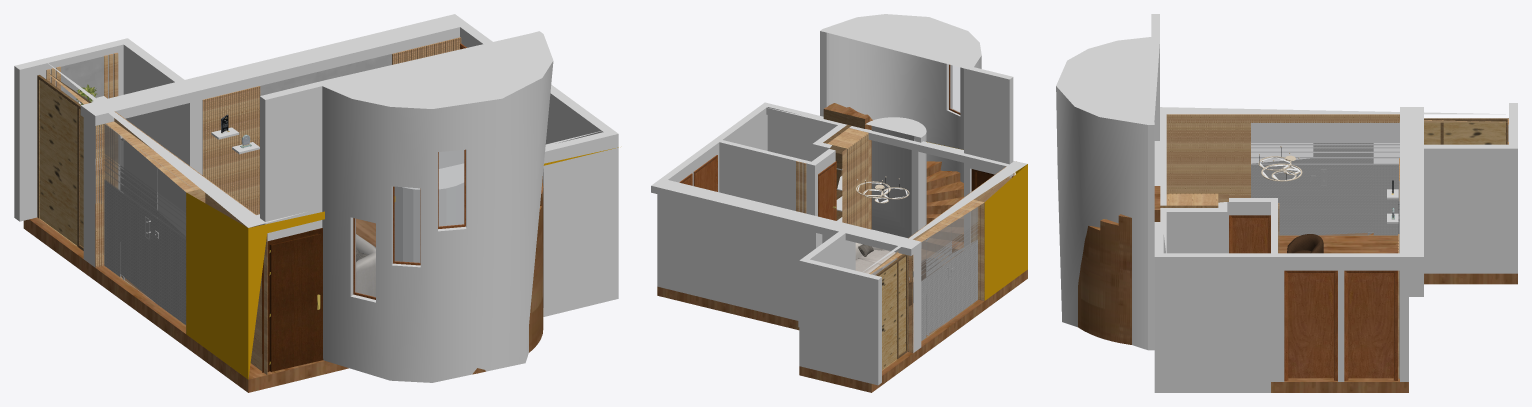
File: lobby.glb
The picture shows the model from 3 angles, left to right: view 1: azimuth 30°, elevation 25°; view 2: azimuth 150°, elevation 25°; view 3: azimuth 270°, elevation 25°; orthographic projection. The views are drawn at different scales.
Visible parts, largest first — view 1: LOBBY_WITRONIX_Optimized; view 2: LOBBY_WITRONIX_Optimized; view 3: LOBBY_WITRONIX_Optimized.
Boxes of the visible parts, x1,y1,x2,y2 form: LOBBY_WITRONIX_Optimized: (14,14,618,392); LOBBY_WITRONIX_Optimized: (651,14,1027,392); LOBBY_WITRONIX_Optimized: (1056,14,1517,392).
Bounding box in the file's own units: 6.09 × 4.35 × 7.71.
816 materials, 793 textured.
